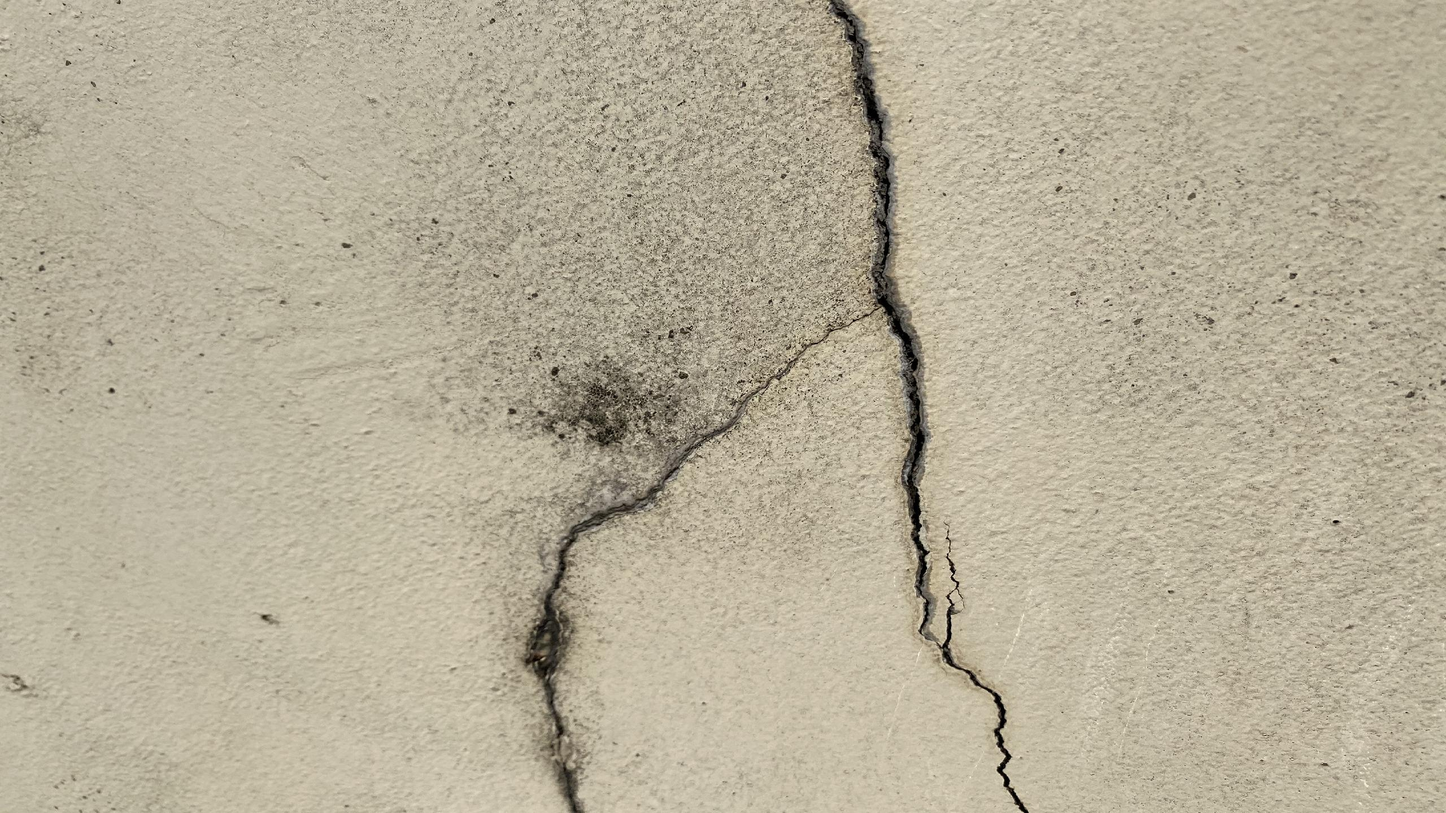crack: (523, 1, 1030, 811)
